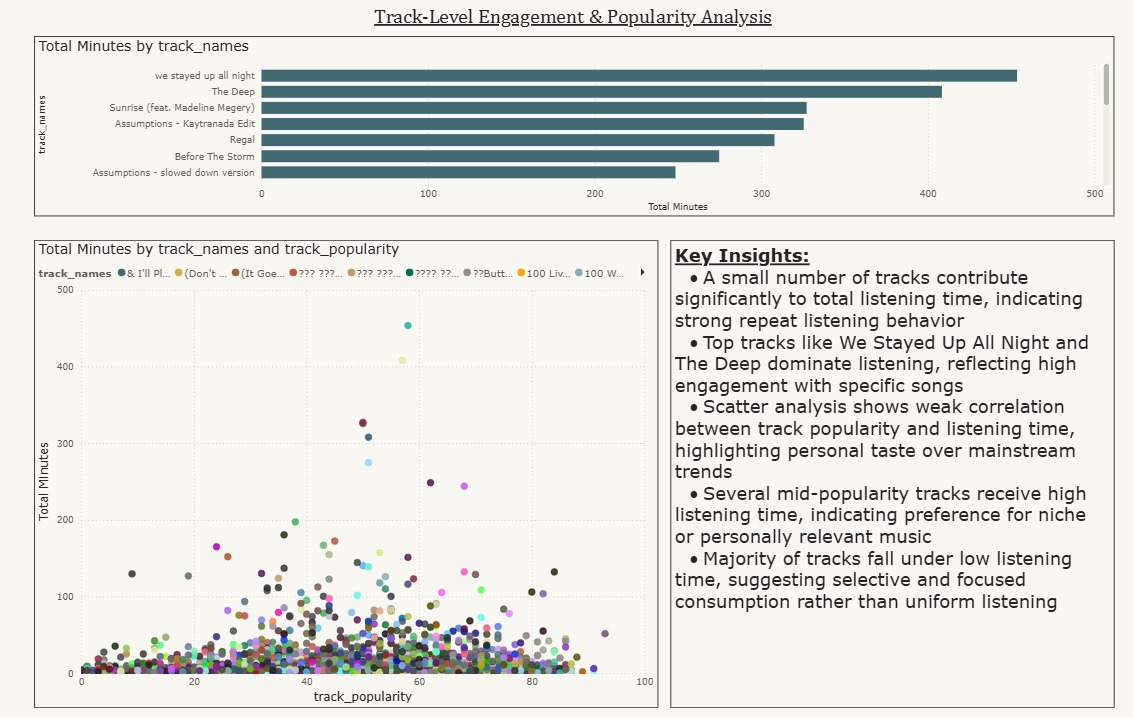

The page's visual inventory and layout, read from the dashboard file:
{"tool":"powerbi","page":{"name":"Track-Level Engagement & Popularity Analysis","canvas":[1600,1000],"ordinal":4},"visuals":[{"type":"barChart","fields":{"Category":["tracks_table.track_names"],"Y":["fact_listening_events3.Total Minutes"]},"box":[48,48,1440,240],"z":0},{"type":"scatterChart","fields":{"X":["tracks_table.track_popularity"],"Series":["tracks_table.track_names"],"Y":["fact_listening_events3.Total Minutes"]},"box":[48,320,832,624],"z":1000},{"type":"textbox","box":[496,0,592,48],"z":2000},{"type":"textbox","box":[896,320,592,624],"z":3000}]}

Visuals, with their boxes in screenshot pixels (x1, y1, x2, y2), scaled from the page's 1600x1000 canvas onto the 1133x717 screenshot:
barChart - tracks_table.track_names x fact_listening_events3.Total Minutes: crop(34, 34, 1054, 206)
scatterChart - tracks_table.track_popularity x tracks_table.track_names: crop(34, 229, 623, 677)
textbox: crop(351, 0, 770, 34)
textbox: crop(634, 229, 1054, 677)
